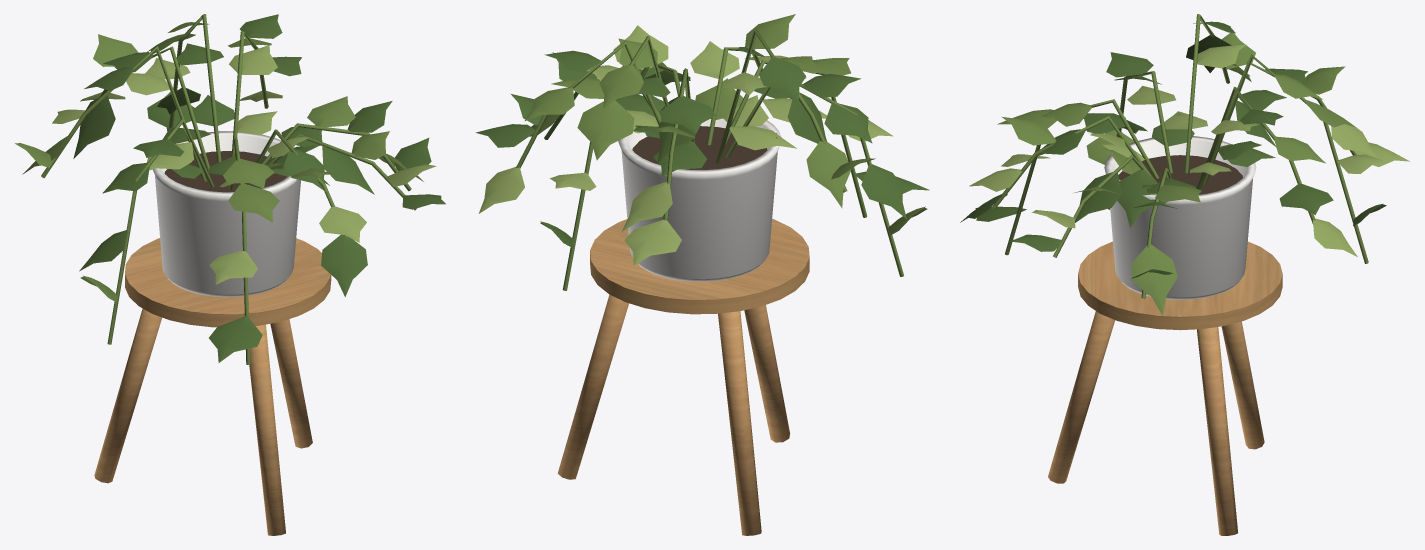
File: plant_pothos.glb
The picture shows the model from 3 angles, left to right: view 1: azimuth 30°, elevation 25°; view 2: azimuth 150°, elevation 25°; view 3: azimuth 270°, elevation 25°; orthographic projection. The views are drawn at different scales.
Parts seen in each view (by area): view 1: plant_pothos_leaves, plant_pothos_stand, plant_pothos_pot, plant_pothos_vines, plant_pothos_soil; view 2: plant_pothos_leaves, plant_pothos_stand, plant_pothos_pot, plant_pothos_vines, plant_pothos_soil; view 3: plant_pothos_leaves, plant_pothos_stand, plant_pothos_pot, plant_pothos_vines, plant_pothos_soil.
Boxes of the visible parts, x1,y1,x2,y2 form: plant_pothos_leaves: [15, 14, 445, 362]; plant_pothos_stand: [94, 238, 331, 535]; plant_pothos_pot: [152, 131, 300, 297]; plant_pothos_vines: [41, 14, 416, 364]; plant_pothos_soil: [164, 151, 287, 192]; plant_pothos_leaves: [475, 14, 929, 265]; plant_pothos_stand: [557, 219, 809, 535]; plant_pothos_pot: [618, 118, 781, 281]; plant_pothos_vines: [516, 29, 903, 290]; plant_pothos_soil: [632, 126, 767, 169]; plant_pothos_leaves: [960, 21, 1409, 315]; plant_pothos_stand: [1048, 241, 1282, 535]; plant_pothos_pot: [1104, 136, 1256, 299]; plant_pothos_vines: [992, 14, 1368, 298]; plant_pothos_soil: [1118, 155, 1242, 194].
Size of the model in its own units: 0.5893 by 0.6708 by 0.6174.
Materials: 6 (1 with a texture image).
